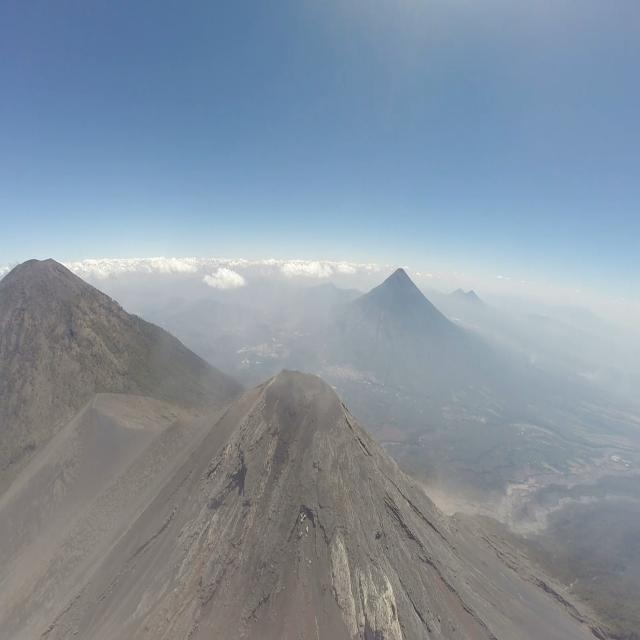Summit: (176, 366, 452, 640)
